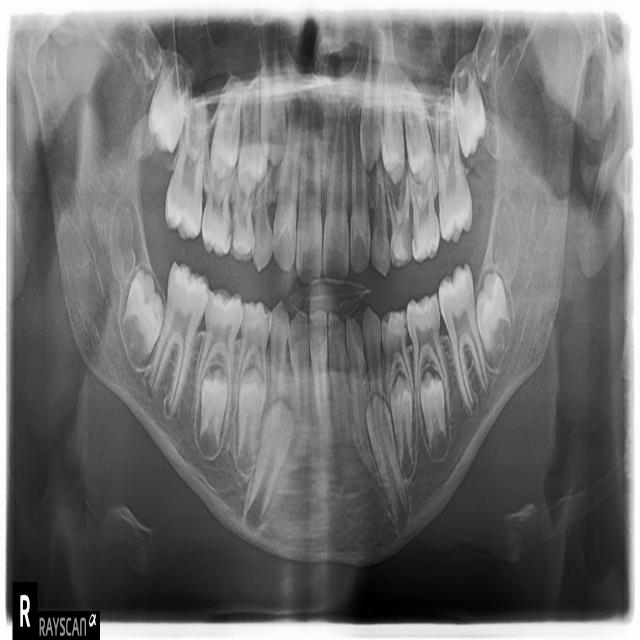mandibula: (28, 17, 596, 557)
